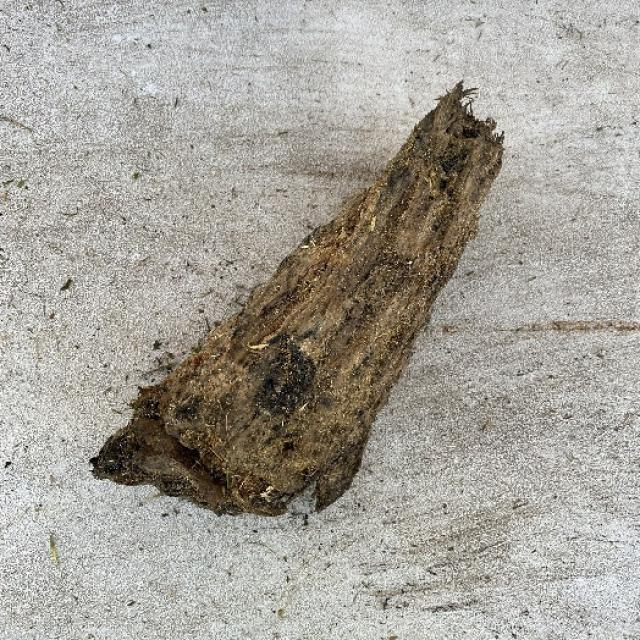organik: (97, 94, 502, 539)
